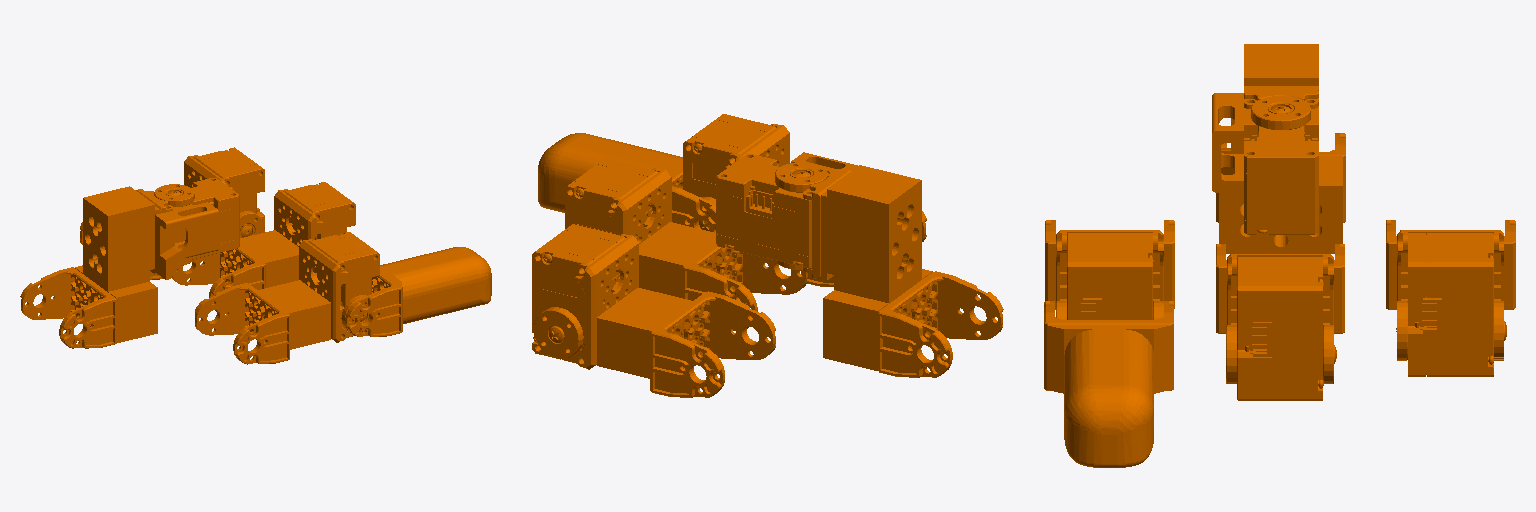
robot.urdf — onshape:
<robot name="onshape">
  <link name="palm_lower">
    <inertial>
      <origin xyz="0.0 0.0 0.0" rpy="0.0 -0.0 0.0"/>
      <mass value="0.237"/>
      <inertia ixx="0.000354094" ixy="-1.193e-06" ixz="-2.445e-06" iyy="0.000260915" iyz="-2.905e-06" izz="0.000529257"/>
    </inertial>
    <visual>
      <geometry>
        <mesh filename="../assets/leap/leap_hand/palm_lower.stl"/>
      </geometry>
      <origin xyz="-0.020095249652862544 0.025757756134899473 -0.034722403578460216" rpy="0.0 -0.0 0.0"/>
      <material name="palm_lower_material">
        <color rgba="0.6039215686274509 0.14901960784313725 0.14901960784313725 1.0"/>
      </material>
    </visual>
    <collision>
      <geometry>
        <mesh filename="../assets/leap/leap_hand/palm_lower.stl"/>
      </geometry>
      <origin xyz="-0.020095249652862544 0.025757756134899473 -0.034722403578460216" rpy="0.0 -0.0 0.0"/>
    </collision>
  </link>
  <link name="mcp_joint">
    <inertial>
      <origin xyz="0.0 0.0 0.0" rpy="0.0 -0.0 0.0"/>
      <mass value="0.044"/>
      <inertia ixx="1.1499e-05" ixy="3.049e-06" ixz="1.21e-07" iyy="7.796e-06" iyz="1.12e-07" izz="1.4759e-05"/>
    </inertial>
    <visual>
      <geometry>
        <mesh filename="../assets/leap/leap_hand/mcp_joint.stl"/>
      </geometry>
      <origin xyz="0.008406902261174496 0.0077662438597169954 0.014657354985032912" rpy="1.6375789613221e-15 -1.021047330249102e-30 1.7177968783327987e-31"/>
      <material name="mcp_joint_material">
        <color rgba="0.8666666666666667 0.8666666666666667 0.050980392156862744 1.0"/>
      </material>
    </visual>
    <collision>
      <geometry>
        <mesh filename="../assets/leap/leap_hand/mcp_joint.stl"/>
      </geometry>
      <origin xyz="0.008406902261174496 0.0077662438597169954 0.014657354985032912" rpy="1.6375789613221e-15 -1.021047330249102e-30 1.7177968783327987e-31"/>
    </collision>
  </link>
  <link name="pip">
    <inertial>
      <origin xyz="0.0 0.0 0.0" rpy="0.0 -0.0 0.0"/>
      <mass value="0.032"/>
      <inertia ixx="4.798e-06" ixy="1.2e-08" ixz="4e-09" iyy="2.862e-06" iyz="1.1e-08" izz="4.234e-06"/>
    </inertial>
    <visual>
      <geometry>
        <mesh filename="../assets/leap/leap_hand/pip.stl"/>
      </geometry>
      <origin xyz="0.009643363092271328 0.0002999999999999895 0.0007840340104173765" rpy="-1.5707963267948966 -1.5707963267948963 0.0"/>
      <material name="pip_material">
        <color rgba="0.7490196078431373 0.7490196078431373 0.7490196078431373 1.0"/>
      </material>
    </visual>
    <collision>
      <geometry>
        <mesh filename="../assets/leap/leap_hand/pip.stl"/>
      </geometry>
      <origin xyz="0.009643363092271328 0.0002999999999999895 0.0007840340104173765" rpy="-1.5707963267948966 -1.5707963267948963 0.0"/>
    </collision>
  </link>
  <link name="dip_long">
    <inertial>
      <origin xyz="0.0 0.0 0.0" rpy="0.0 -0.0 0.0"/>
      <mass value="0.037"/>
      <inertia ixx="5.542e-06" ixy="-6.07e-07" ixz="-1.7e-08" iyy="5.727e-06" iyz="-2.3e-08" izz="6.682e-06"/>
    </inertial>
    <visual>
      <geometry>
        <mesh filename="custom_models/dip_long.stl"/>
      </geometry>
      <origin xyz="0.021133352895225003 -0.00843211914670488 0.00978508816209524" rpy="-3.141592653589793 4.507511124216441e-32 4.439548105392361e-32"/>
      <material name="dip_material">
        <color rgba="0.878 0.467 0.0 1.0"/>
      </material>
    </visual>
    <collision>
      <geometry>
        <mesh filename="custom_models/dip_long.stl"/>
      </geometry>
      <origin xyz="0.021133352895225003 -0.00843211914670488 0.00978508816209524" rpy="-3.141592653589793 4.507511124216441e-32 4.439548105392361e-32"/>
    </collision>
  </link>
  <link name="fingertip">
    <inertial>
      <origin xyz="0.0 0.0 0.0" rpy="0.0 -0.0 0.0"/>
      <mass value="0.016"/>
      <inertia ixx="3.368e-06" ixy="1.15e-07" ixz="0.0" iyy="1.556e-06" iyz="0.0" izz="2.863e-06"/>
    </inertial>
    <visual>
      <geometry>
        <mesh filename="../assets/leap/leap_hand/fingertip.stl"/>
      </geometry>
      <origin xyz="0.013286424108533503 -0.006114238386541987 0.014499999999999498" rpy="3.141592653589793 1.1993117970061735e-33 4.439548105392361e-32"/>
      <material name="fingertip_material">
        <color rgba="0.8666666666666667 0.8666666666666667 0.050980392156862744 1.0"/>
      </material>
    </visual>
    <collision>
      <geometry>
        <mesh filename="../assets/leap/leap_hand/fingertip.stl"/>
      </geometry>
      <origin xyz="0.013286424108533503 -0.006114238386541987 0.014499999999999498" rpy="3.141592653589793 1.1993117970061735e-33 4.439548105392361e-32"/>
    </collision>
  </link>
  <link name="pip_4">
    <inertial>
      <origin xyz="0.0 0.0 0.0" rpy="0.0 -0.0 0.0"/>
      <mass value="0.032"/>
      <inertia ixx="4.798e-06" ixy="1.2e-08" ixz="4e-09" iyy="2.862e-06" iyz="1.1e-08" izz="4.234e-06"/>
    </inertial>
    <visual>
      <geometry>
        <mesh filename="../assets/leap/leap_hand/pip.stl"/>
      </geometry>
      <origin xyz="-0.005356636907728671 0.0002999999999999999 0.0007840340104173782" rpy="-1.5707963267948966 -1.5707963267948963 0.0"/>
      <material name="pip_material">
        <color rgba="0.7490196078431373 0.7490196078431373 0.7490196078431373 1.0"/>
      </material>
    </visual>
    <collision>
      <geometry>
        <mesh filename="../assets/leap/leap_hand/pip.stl"/>
      </geometry>
      <origin xyz="-0.005356636907728671 0.0002999999999999999 0.0007840340104173782" rpy="-1.5707963267948966 -1.5707963267948963 0.0"/>
    </collision>
  </link>
  <link name="thumb_pip">
    <inertial>
      <origin xyz="0.0 0.0 0.0" rpy="0.0 -0.0 0.0"/>
      <mass value="0.003"/>
      <inertia ixx="5.93e-07" ixy="0.0" ixz="0.0" iyy="5.49e-07" iyz="0.0" izz="2.24e-07"/>
    </inertial>
    <visual>
      <geometry>
        <mesh filename="../assets/leap/leap_hand/thumb_pip.stl"/>
      </geometry>
      <origin xyz="0.011961920770611187 -5.30825383648903e-16 -0.0158526489566642" rpy="1.5707963267948966 1.6050198443300153e-46 -3.9204996250525193e-59"/>
      <material name="thumb_pip_material">
        <color rgba="0.8666666666666667 0.8666666666666667 0.050980392156862744 1.0"/>
      </material>
    </visual>
    <collision>
      <geometry>
        <mesh filename="../assets/leap/leap_hand/thumb_pip.stl"/>
      </geometry>
      <origin xyz="0.011961920770611187 -5.30825383648903e-16 -0.0158526489566642" rpy="1.5707963267948966 1.6050198443300153e-46 -3.9204996250525193e-59"/>
    </collision>
  </link>
  <link name="thumb_dip">
    <inertial>
      <origin xyz="0.0 0.0 0.0" rpy="0.0 -0.0 0.0"/>
      <mass value="0.038"/>
      <inertia ixx="8.474e-06" ixy="2.41e-07" ixz="2.6e-08" iyy="3.841e-06" iyz="2.5e-08" izz="7.679e-06"/>
    </inertial>
    <visual>
      <geometry>
        <mesh filename="../assets/leap/leap_hand/thumb_dip.stl"/>
      </geometry>
      <origin xyz="0.043968715707239175 0.0579529529737092 -0.008628676449369476" rpy="1.94289029309401e-16 3.27515792264422e-15 1.112375852965736e-46"/>
      <material name="thumb_dip_material">
        <color rgba="0.8666666666666667 0.8666666666666667 0.050980392156862744 1.0"/>
      </material>
    </visual>
    <collision>
      <geometry>
        <mesh filename="../assets/leap/leap_hand/thumb_dip.stl"/>
      </geometry>
      <origin xyz="0.043968715707239175 0.0579529529737092 -0.008628676449369476" rpy="1.94289029309401e-16 3.27515792264422e-15 1.112375852965736e-46"/>
    </collision>
  </link>
  <link name="thumb_fingertip">
    <inertial>
      <origin xyz="0.0 0.0 0.0" rpy="0.0 -0.0 0.0"/>
      <mass value="0.049"/>
      <inertia ixx="2.0372e-05" ixy="-4.89e-07" ixz="-3e-08" iyy="4.336e-06" iyz="-9.7e-08" izz="1.9845e-05"/>
    </inertial>
    <visual>
      <geometry>
        <mesh filename="../assets/leap/leap_hand/thumb_fingertip.stl"/>
      </geometry>
      <origin xyz="0.06255953846266739 0.07845968291139699 0.048992911807332215" rpy="4.379057701015637e-47 -3.33066907387547e-16 1.2042408677791935e-46"/>
      <material name="thumb_fingertip_material">
        <color rgba="0.6039215686274509 0.14901960784313725 0.14901960784313725 1.0"/>
      </material>
    </visual>
    <collision>
      <geometry>
        <mesh filename="../assets/leap/leap_hand/thumb_fingertip.stl"/>
      </geometry>
      <origin xyz="0.06255953846266739 0.07845968291139699 0.048992911807332215" rpy="4.379057701015637e-47 -3.33066907387547e-16 1.2042408677791935e-46"/>
    </collision>
  </link>
  <link name="mcp_joint_2_long">
    <inertial>
      <origin xyz="0.0 0.0 0.0" rpy="0.0 -0.0 0.0"/>
      <mass value="0.044"/>
      <inertia ixx="1.1499e-05" ixy="3.049e-06" ixz="1.21e-07" iyy="7.796e-06" iyz="1.12e-07" izz="1.4759e-05"/>
    </inertial>
    <visual>
      <geometry>
        <mesh filename="custom_models/mcp_joint_long.stl"/>
      </geometry>
      <origin xyz="0.008406902261174496 0.0077662438597169954 0.014657354985032914" rpy="1.6375789613221e-15 -1.0076465469034e-30 2.1209300131419907e-61"/>
      <material name="mcp_joint_material">
        <color rgba="0.878 0.467 0.0 1.0"/>
      </material>
    </visual>
    <collision>
      <geometry>
        <mesh filename="custom_models/mcp_joint_long.stl"/>
      </geometry>
      <origin xyz="0.008406902261174496 0.0077662438597169954 0.014657354985032914" rpy="1.6375789613221e-15 -1.0076465469034e-30 2.1209300131419907e-61"/>
    </collision>
  </link>
  <link name="pip_2">
    <inertial>
      <origin xyz="0.0 0.0 0.0" rpy="0.0 -0.0 0.0"/>
      <mass value="0.032"/>
      <inertia ixx="4.798e-06" ixy="1.2e-08" ixz="4e-09" iyy="2.862e-06" iyz="1.1e-08" izz="4.234e-06"/>
    </inertial>
    <visual>
      <geometry>
        <mesh filename="../assets/leap/leap_hand/pip.stl"/>
      </geometry>
      <origin xyz="0.009643363092271328 0.0002999999999999947 0.0007840340104173765" rpy="-1.5707963267948966 -1.5707963267948963 0.0"/>
      <material name="pip_material">
        <color rgba="0.7490196078431373 0.7490196078431373 0.7490196078431373 1.0"/>
      </material>
    </visual>
    <collision>
      <geometry>
        <mesh filename="../assets/leap/leap_hand/pip.stl"/>
      </geometry>
      <origin xyz="0.009643363092271328 0.0002999999999999947 0.0007840340104173765" rpy="-1.5707963267948966 -1.5707963267948963 0.0"/>
    </collision>
  </link>
  <link name="dip_2_long">
    <inertial>
      <origin xyz="0.0 0.0 0.0" rpy="0.0 -0.0 0.0"/>
      <mass value="0.037"/>
      <inertia ixx="5.542e-06" ixy="-6.07e-07" ixz="-1.7e-08" iyy="5.727e-06" iyz="-2.3e-08" izz="6.682e-06"/>
    </inertial>
    <visual>
      <geometry>
        <mesh filename="custom_models/dip_long.stl"/>
      </geometry>
      <origin xyz="0.021133352895225003 -0.008432119146704865 0.009785088162095237" rpy="-3.141592653589793 2.1146933785271956e-32 1.4408183216511869e-31"/>
      <material name="dip_material">
        <color rgba="0.878 0.467 0.0 1.0"/>
      </material>
    </visual>
    <collision>
      <geometry>
        <mesh filename="custom_models/dip_long.stl"/>
      </geometry>
      <origin xyz="0.021133352895225003 -0.008432119146704865 0.009785088162095237" rpy="-3.141592653589793 2.1146933785271956e-32 1.4408183216511869e-31"/>
    </collision>
  </link>
  <link name="fingertip_2">
    <inertial>
      <origin xyz="0.0 0.0 0.0" rpy="0.0 -0.0 0.0"/>
      <mass value="0.016"/>
      <inertia ixx="3.368e-06" ixy="1.15e-07" ixz="0.0" iyy="1.556e-06" iyz="0.0" izz="2.863e-06"/>
    </inertial>
    <visual>
      <geometry>
        <mesh filename="../assets/leap/leap_hand/fingertip.stl"/>
      </geometry>
      <origin xyz="0.013286424108533496 -0.006114238386542001 0.014499999999999496" rpy="3.141592653589793 -4.317959788283594e-33 1.4408183216511869e-31"/>
      <material name="fingertip_material">
        <color rgba="0.8666666666666667 0.8666666666666667 0.050980392156862744 1.0"/>
      </material>
    </visual>
    <collision>
      <geometry>
        <mesh filename="../assets/leap/leap_hand/fingertip.stl"/>
      </geometry>
      <origin xyz="0.013286424108533496 -0.006114238386542001 0.014499999999999496" rpy="3.141592653589793 -4.317959788283594e-33 1.4408183216511869e-31"/>
    </collision>
  </link>
  <link name="mcp_joint_3">
    <inertial>
      <origin xyz="0.0 0.0 0.0" rpy="0.0 -0.0 0.0"/>
      <mass value="0.044"/>
      <inertia ixx="1.1499e-05" ixy="3.049e-06" ixz="1.21e-07" iyy="7.796e-06" iyz="1.12e-07" izz="1.4759e-05"/>
    </inertial>
    <visual>
      <geometry>
        <mesh filename="../assets/leap/leap_hand/mcp_joint.stl"/>
      </geometry>
      <origin xyz="0.0084069022611745 0.007766243859716996 0.014657354985032914" rpy="1.6375789613221e-15 -1.0059504988632627e-30 5.729641584552035e-32"/>
      <material name="mcp_joint_material">
        <color rgba="0.8666666666666667 0.8666666666666667 0.050980392156862744 1.0"/>
      </material>
    </visual>
    <collision>
      <geometry>
        <mesh filename="../assets/leap/leap_hand/mcp_joint.stl"/>
      </geometry>
      <origin xyz="0.0084069022611745 0.007766243859716996 0.014657354985032914" rpy="1.6375789613221e-15 -1.0059504988632627e-30 5.729641584552035e-32"/>
    </collision>
  </link>
  <link name="pip_3">
    <inertial>
      <origin xyz="0.0 0.0 0.0" rpy="0.0 -0.0 0.0"/>
      <mass value="0.032"/>
      <inertia ixx="4.798e-06" ixy="1.2e-08" ixz="4e-09" iyy="2.862e-06" iyz="1.1e-08" izz="4.234e-06"/>
    </inertial>
    <visual>
      <geometry>
        <mesh filename="../assets/leap/leap_hand/pip.stl"/>
      </geometry>
      <origin xyz="0.009643363092271331 0.00029999999999998084 0.0007840340104173765" rpy="-1.5707963267948966 -1.5707963267948963 0.0"/>
      <material name="pip_material">
        <color rgba="0.7490196078431373 0.7490196078431373 0.7490196078431373 1.0"/>
      </material>
    </visual>
    <collision>
      <geometry>
        <mesh filename="../assets/leap/leap_hand/pip.stl"/>
      </geometry>
      <origin xyz="0.009643363092271331 0.00029999999999998084 0.0007840340104173765" rpy="-1.5707963267948966 -1.5707963267948963 0.0"/>
    </collision>
  </link>
  <link name="dip_3_long">
    <inertial>
      <origin xyz="0.0 0.0 0.0" rpy="0.0 -0.0 0.0"/>
      <mass value="0.037"/>
      <inertia ixx="5.542e-06" ixy="-6.07e-07" ixz="-1.7e-08" iyy="5.727e-06" iyz="-2.3e-08" izz="6.682e-06"/>
    </inertial>
    <visual>
      <geometry>
        <mesh filename="custom_models/dip_long.stl"/>
      </geometry>
      <origin xyz="0.021133352895225006 -0.008432119146704865 0.009785088162095237" rpy="-3.141592653589793 -1.4095651113919093e-33 1.5565411607615035e-32"/>
      <material name="dip_material">
        <color rgba="0.878 0.467 0.0 1.0"/>
      </material>
    </visual>
    <collision>
      <geometry>
        <mesh filename="custom_models/dip_long.stl"/>
      </geometry>
      <origin xyz="0.021133352895225006 -0.008432119146704865 0.009785088162095237" rpy="-3.141592653589793 -1.4095651113919093e-33 1.5565411607615035e-32"/>
    </collision>
  </link>
  <link name="fingertip_3_long">
    <inertial>
      <origin xyz="0.0 0.0 0.0" rpy="0.0 -0.0 0.0"/>
      <mass value="0.016"/>
      <inertia ixx="3.368e-06" ixy="1.15e-07" ixz="0.0" iyy="1.556e-06" iyz="0.0" izz="2.863e-06"/>
    </inertial>
    <visual>
      <geometry>
        <mesh filename="custom_models/fingertip_long.stl"/>
      </geometry>
      <origin xyz="0.013286424108533501 -0.006114238386541987 0.0144999999999995" rpy="3.141592653589793 8.61707169505754e-33 1.5565411607615035e-32"/>
      <material name="fingertip_material">
        <color rgba="0.878 0.467 0.0 1.0"/>
      </material>
    </visual>
    <collision>
      <geometry>
        <mesh filename="custom_models/fingertip_long.stl"/>
      </geometry>
      <origin xyz="0.013286424108533501 -0.006114238386541987 0.0144999999999995" rpy="3.141592653589793 8.61707169505754e-33 1.5565411607615035e-32"/>
    </collision>
  </link>
  <joint name="1" type="revolute">
    <parent link="palm_lower"/>
    <child link="mcp_joint"/>
    <origin xyz="-0.007095249652862546 0.023057756134899472 -0.01872240357846022" rpy="1.570796326794895 1.5707963267948946 0.0"/>
    <axis xyz="0.0 0.0 -1.0"/>
    <limit effort="0.95" velocity="8.48" lower="-0.314" upper="2.23"/>
  </joint>
  <joint name="0" type="revolute">
    <parent link="mcp_joint"/>
    <child link="pip"/>
    <origin xyz="-0.012200000000000008 0.038099999999999995 0.0145" rpy="-1.5707963267948966 -1.0065212660796337e-15 1.5707963267948943"/>
    <axis xyz="0.0 0.0 -1.0"/>
    <limit effort="0.95" velocity="8.48" lower="-1.047" upper="1.047"/>
  </joint>
  <joint name="2" type="revolute">
    <parent link="pip"/>
    <child link="dip_long"/>
    <origin xyz="0.014999999999999968 0.014299999999999905 -0.012999999999999824" rpy="1.570796326794896 -1.5707963267948963 0.0"/>
    <axis xyz="0.0 0.0 -1.0"/>
    <limit effort="0.95" velocity="8.48" lower="-0.506" upper="1.885"/>
  </joint>
  <joint name="3" type="revolute">
    <parent link="dip_long"/>
    <child link="fingertip"/>
    <origin xyz="-4.0880582495572692636e-09 -0.051100004210367367397 0.00020000000000007858714" rpy="4.5935029425113685e-17 -2.8730071914463795e-16 4.439548105392361e-32"/>
    <axis xyz="0.0 0.0 -1.0"/>
    <limit effort="0.95" velocity="8.48" lower="-0.366" upper="2.042"/>
  </joint>
  <joint name="12" type="revolute">
    <parent link="palm_lower"/>
    <child link="pip_4"/>
    <origin xyz="-0.06939524965286253 -0.0012422438651005258 -0.021622403578460216" rpy="-8.238176646493942e-17 1.5707963267948957 0.0"/>
    <axis xyz="0.0 0.0 -1.0"/>
    <limit effort="0.95" velocity="8.48" lower="-0.349" upper="2.094"/>
  </joint>
  <joint name="13" type="revolute">
    <parent link="pip_4"/>
    <child link="thumb_pip"/>
    <origin xyz="-2.7755575615628914e-17 0.014300000000000005 -0.013000000000000012" rpy="1.570796326794896 -1.5707963267948963 0.0"/>
    <axis xyz="0.0 0.0 -1.0"/>
    <limit effort="0.95" velocity="8.48" lower="-0.47" upper="2.443"/>
  </joint>
  <joint name="14" type="revolute">
    <parent link="thumb_pip"/>
    <child link="thumb_dip"/>
    <origin xyz="0.0 0.014499999999999966 -0.017000000000000053" rpy="-1.5707963267948966 1.6050198443300131e-46 -1.9721522630516625e-31"/>
    <axis xyz="0.0 0.0 -1.0"/>
    <limit effort="0.95" velocity="8.48" lower="-1.2" upper="1.9"/>
  </joint>
  <joint name="15" type="revolute">
    <parent link="thumb_dip"/>
    <child link="thumb_fingertip"/>
    <origin xyz="-1.249000902703301e-16 0.046599999999999864 0.0001999999999999771" rpy="1.506395849149178e-44 5.423418723393526e-31 3.141592653589793"/>
    <axis xyz="0.0 0.0 -1.0"/>
    <limit effort="0.95" velocity="8.48" lower="-1.34" upper="1.88"/>
  </joint>
  <joint name="5" type="revolute">
    <parent link="palm_lower"/>
    <child link="mcp_joint_2_long"/>
    <origin xyz="-0.007095249652862546 -0.022392243865100525 -0.01872240357846022" rpy="1.570796326794895 1.5707963267948946 0.0"/>
    <axis xyz="0.0 0.0 -1.0"/>
    <limit effort="0.95" velocity="8.48" lower="-0.314" upper="2.23"/>
  </joint>
  <joint name="4" type="revolute">
    <parent link="mcp_joint_2_long"/>
    <child link="pip_2"/>
    <origin xyz="-0.012200000000000007713 0.053099999999999994982 0.014500000000000000736" rpy="-1.5707963267948966 -1.0065212660796337e-15 1.5707963267948943"/>
    <axis xyz="0.0 0.0 -1.0"/>
    <limit effort="0.95" velocity="8.48" lower="-1.047" upper="1.047"/>
  </joint>
  <joint name="6" type="revolute">
    <parent link="pip_2"/>
    <child link="dip_2_long"/>
    <origin xyz="0.014999999999999968 0.014299999999999905 -0.012999999999999824" rpy="1.570796326794896 -1.5707963267948963 0.0"/>
    <axis xyz="0.0 0.0 -1.0"/>
    <limit effort="0.95" velocity="8.48" lower="-0.506" upper="1.885"/>
  </joint>
  <joint name="7" type="revolute">
    <parent link="dip_2_long"/>
    <child link="fingertip_2"/>
    <origin xyz="-4.0880582495572692636e-09 -0.051100004210367367397 0.00020000000000007858714" rpy="4.5935029425113685e-17 -2.8730071914463795e-16 4.439548105392361e-32"/>
    <axis xyz="0.0 0.0 -1.0"/>
    <limit effort="0.95" velocity="8.48" lower="-0.366" upper="2.042"/>
  </joint>
  <joint name="9" type="revolute">
    <parent link="palm_lower"/>
    <child link="mcp_joint_3"/>
    <origin xyz="-0.007095249652862546 -0.06784224386510052 -0.01872240357846022" rpy="1.570796326794895 1.5707963267948946 0.0"/>
    <axis xyz="0.0 0.0 -1.0"/>
    <limit effort="0.95" velocity="8.48" lower="-0.314" upper="2.23"/>
  </joint>
  <joint name="8" type="revolute">
    <parent link="mcp_joint_3"/>
    <child link="pip_3"/>
    <origin xyz="-0.012200000000000008 0.038099999999999995 0.0145" rpy="-1.5707963267948966 -1.0065212660796337e-15 1.5707963267948943"/>
    <axis xyz="0.0 0.0 -1.0"/>
    <limit effort="0.95" velocity="8.48" lower="-1.047" upper="1.047"/>
  </joint>
  <joint name="10" type="revolute">
    <parent link="pip_3"/>
    <child link="dip_3_long"/>
    <origin xyz="0.014999999999999968 0.014299999999999905 -0.012999999999999824" rpy="1.570796326794896 -1.5707963267948963 0.0"/>
    <axis xyz="0.0 0.0 -1.0"/>
    <limit effort="0.95" velocity="8.48" lower="-0.506" upper="1.885"/>
  </joint>
  <joint name="11" type="revolute">
    <parent link="dip_3_long"/>
    <child link="fingertip_3_long"/>
    <origin xyz="-4.0880582495572692636e-09 -0.051100004210367367397 0.00020000000000007858714" rpy="4.5935029425113685e-17 -2.8730071914463795e-16 4.439548105392361e-32"/>
    <axis xyz="0.0 0.0 -1.0"/>
    <limit effort="0.95" velocity="8.48" lower="-0.366" upper="2.042"/>
  </joint>
</robot>

--- What the picture shows (computed from the rendered views, not written in the file) ---
The picture shows the robot from 3 angles, left to right: view 1: azimuth 30°, elevation 25°; view 2: azimuth 150°, elevation 25°; view 3: azimuth 270°, elevation 25°; orthographic projection.
Model onshape with 17 links and 16 joints (16 revolute), rooted at palm_lower, posed every joint at zero.
Visible links, largest first — view 1: mcp_joint_2_long, dip_3_long, dip_2_long, fingertip_3_long, dip_long; view 2: mcp_joint_2_long, dip_long, dip_2_long, fingertip_3_long, dip_3_long; view 3: mcp_joint_2_long, dip_long, dip_2_long, fingertip_3_long, dip_3_long.
Link boxes in pixels (box(x1,y1,x2,y2)): mcp_joint_2_long: box(20, 178, 239, 348); dip_3_long: box(195, 232, 379, 364); dip_2_long: box(172, 182, 355, 313); fingertip_3_long: box(345, 247, 491, 336); dip_long: box(80, 147, 264, 279); mcp_joint_2_long: box(716, 152, 1003, 377); dip_long: box(532, 224, 775, 397); dip_2_long: box(565, 158, 807, 330); fingertip_3_long: box(538, 133, 715, 232); dip_3_long: box(683, 114, 926, 286); mcp_joint_2_long: box(1212, 44, 1345, 253); dip_long: box(1386, 220, 1515, 376); dip_2_long: box(1216, 244, 1344, 400); fingertip_3_long: box(1044, 301, 1173, 467); dip_3_long: box(1045, 220, 1174, 319).
Bounding box of the posed robot: 0.1766 × 0.1257 × 0.0549 m (x, y, z).
Meshes: 10 distinct files referenced, 5 mesh visuals loaded (3 binary STL); not drawn: 12 (reference not matched to a file when rendering).